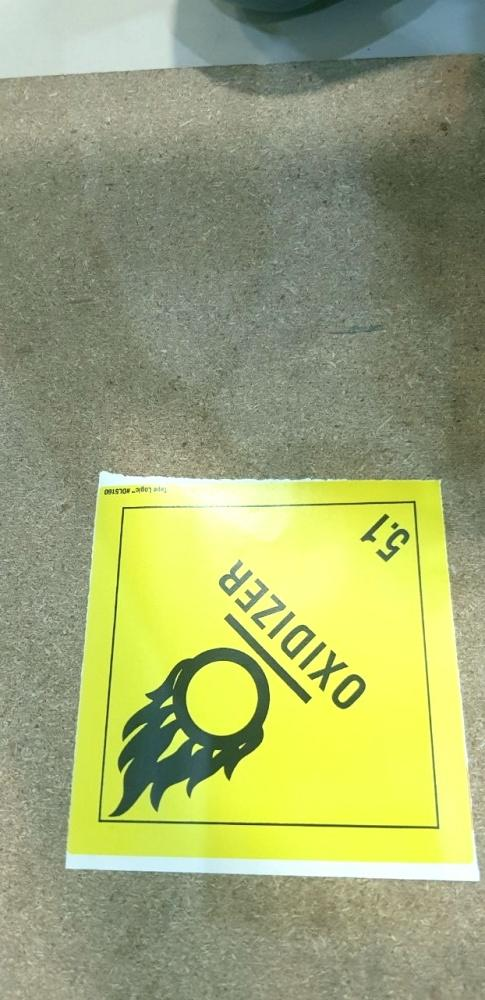oxidizer: (61, 468, 480, 882)
